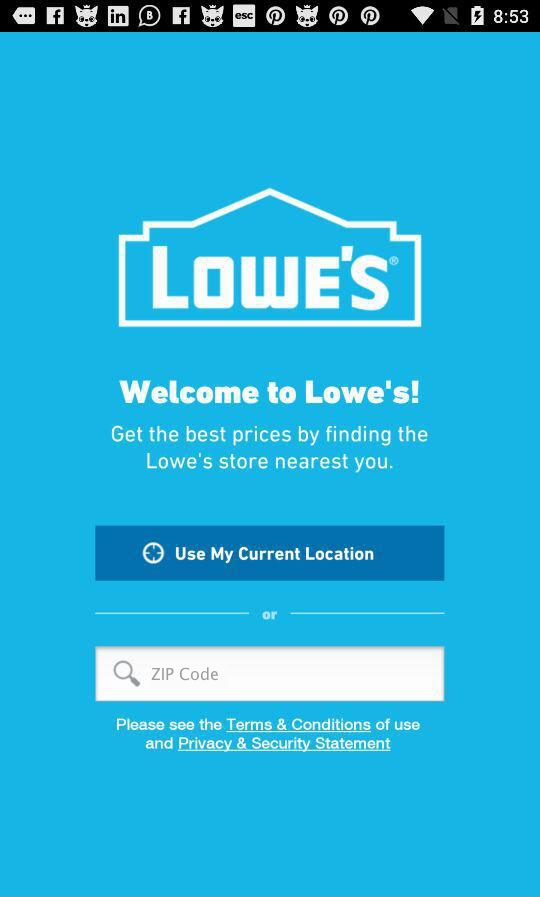EditText: (96, 646, 445, 702)
Icon: (114, 660, 142, 687)
Image: (119, 188, 422, 329)
Text: (112, 425, 428, 474), (117, 717, 421, 753), (119, 379, 420, 406), (152, 667, 219, 681), (261, 609, 279, 621)
TextButton: (96, 526, 445, 582)
UpperTaskBar: (1, 1, 540, 33)
